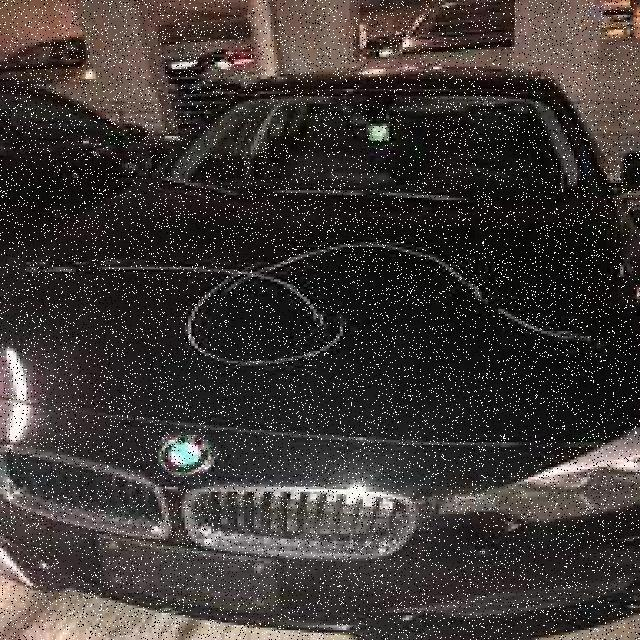bonnet-dent: (10, 198, 637, 490)
